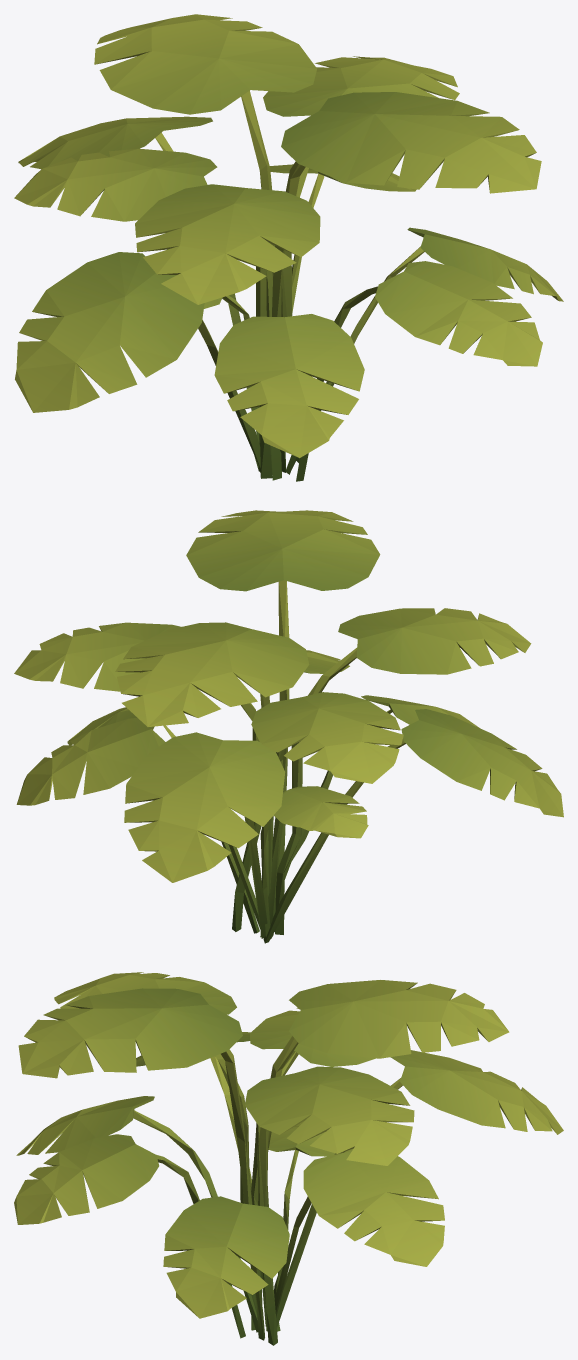
The model's file is Plant_04.fbx.
The picture shows the model from 3 angles, top to bottom: view 1: azimuth 30°, elevation 25°; view 2: azimuth 150°, elevation 25°; view 3: azimuth 270°, elevation 25°; orthographic projection. The views are drawn at different scales.
Visible parts, largest first — view 1: Plant_04; view 2: Plant_04; view 3: Plant_04.
Part boxes in pixels (bbox=[...]): Plant_04: bbox=[14, 14, 563, 481]; Plant_04: bbox=[14, 510, 563, 943]; Plant_04: bbox=[14, 972, 563, 1345].
Bounding box in the file's own units: 154 × 107 × 155.
